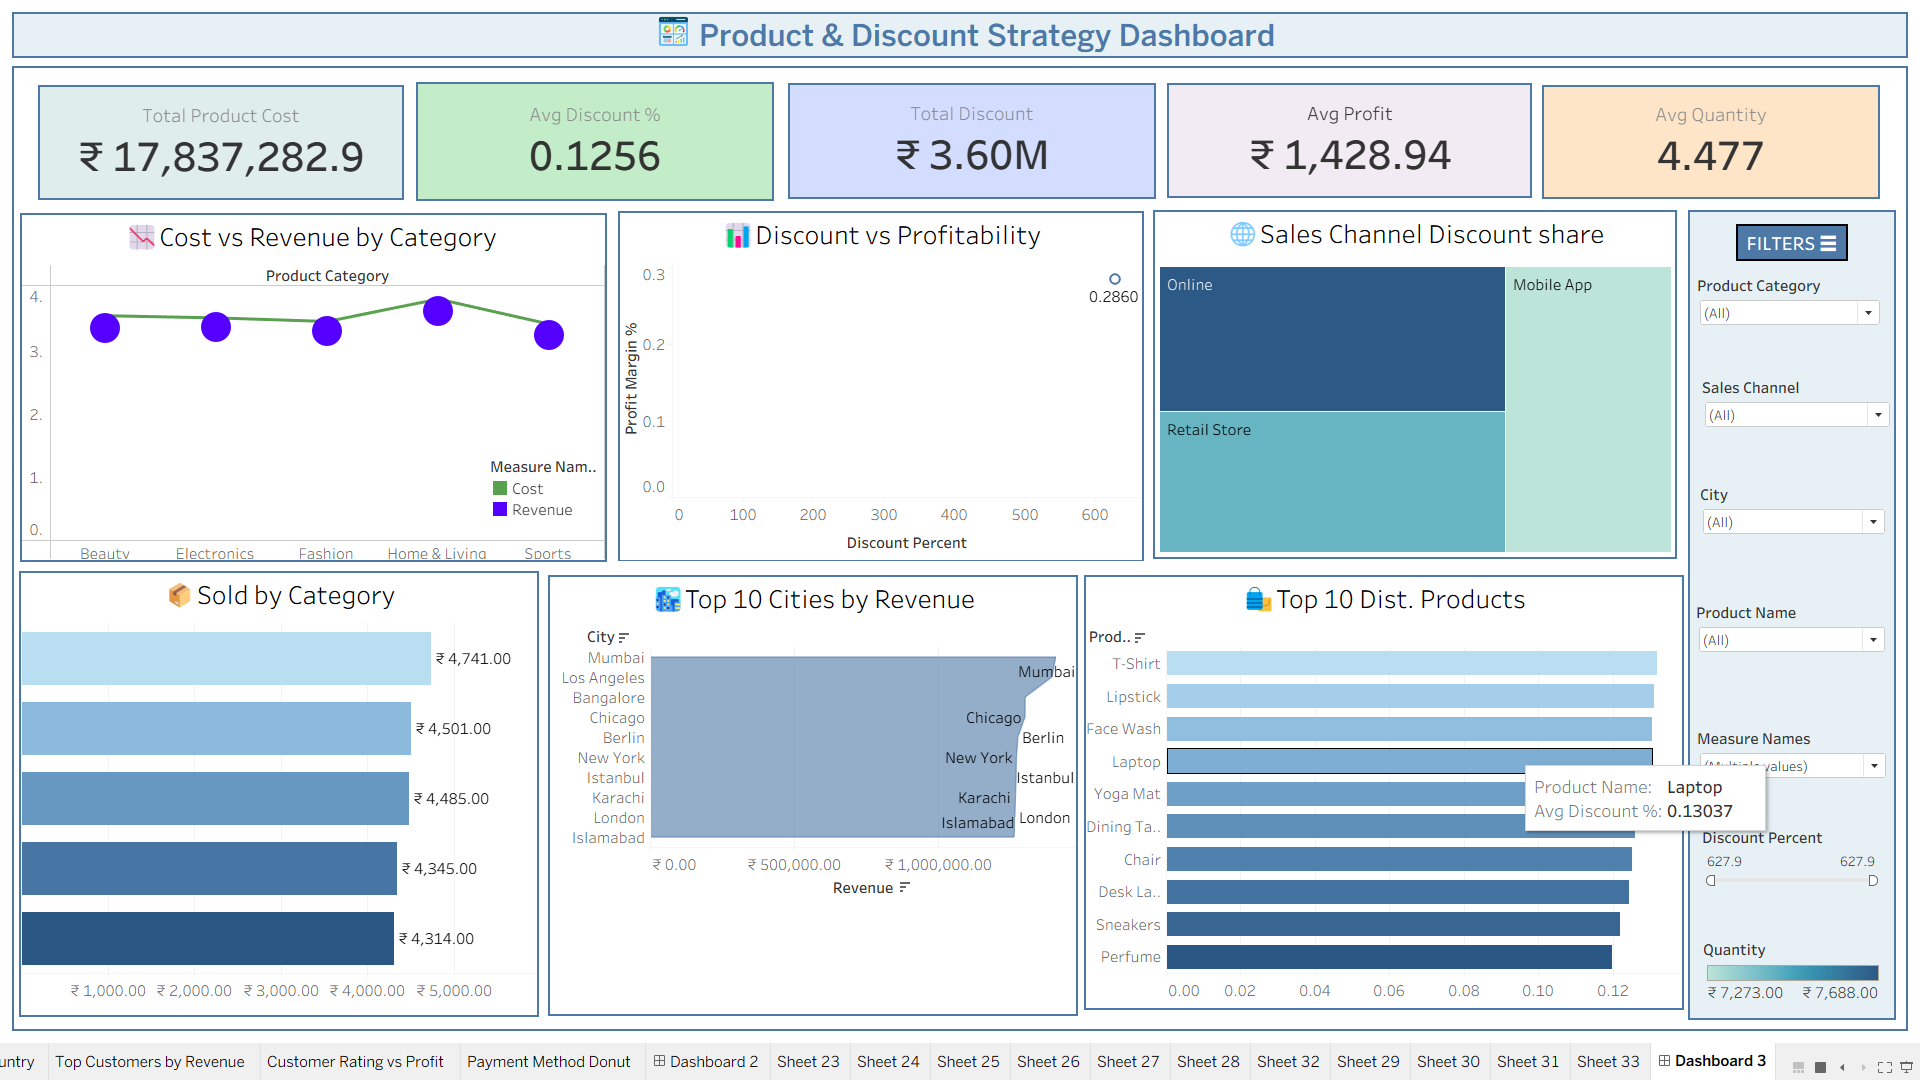

What the dashboard file says about the page in this screenshot:
{"tool":"tableau","page":{"name":"Dashboard 3","canvas":[1000,1000],"units":"permille","ordinal":2},"visuals":[{"type":"title","box":[4.8,9.4,990.3,63.5]},{"type":"image","param":"Image/dashboard.png","box":[325.9,21.2,15.7,29.4]},{"type":"blank","box":[4.8,72.9,990.3,917.8]},{"type":"worksheet","title":"Sheet 24","mark":"Automatic","box":[216.7,78.7,186.5,114]},{"type":"worksheet","title":"Sheet 23","mark":"Automatic","box":[410.4,79.9,191.9,111.6]},{"type":"worksheet","title":"Sheet 27","mark":"Automatic","box":[607.7,79.9,190.1,110.5]},{"type":"worksheet","title":"Sheet 25","mark":"Automatic","box":[19.9,81.1,190.7,110.5]},{"type":"worksheet","title":"Sheet 26","mark":"Automatic","box":[803.3,81.1,176.2,109.3]},{"type":"worksheet","title":"Sheet 32","mark":"Automatic","box":[600.5,200.9,273,334.9]},{"type":"worksheet","title":"Sheet 28","mark":"Automatic","rows":["Calculation_1093494615891980"],"cols":["Discount_Percent"],"box":[321.6,202.1,274.2,336.1]},{"type":"worksheet","title":"Sheet 30","mark":"Automatic","rows":["Cost","Revenue"],"cols":["Product_Category"],"box":[10.3,204.5,306,334.9]},{"type":"text","box":[903.9,215,58.6,35.2]},{"type":"filter","title":"Sheet 30","param":"[federated.0mwebx31yv44sr15h69f60pn67w9].[none:Product_Category:nk]","box":[884,263.2,96.7,85.8]},{"type":"filter","title":"Sheet 32","param":"[federated.0mwebx31yv44sr15h69f60pn67w9].[none:Sales_Channel:nk]","box":[886.4,361.9,99.6,79.9]},{"type":"legend","title":"Sheet 30","param":"[federated.0mwebx31yv44sr15h69f60pn67w9].[:Measure Names]","box":[255.4,437.1,57.4,69.3]},{"type":"filter","title":"Sheet 33","param":"[federated.0mwebx31yv44sr15h69f60pn67w9].[none:City:nk]","box":[885.2,464.2,97.8,99.9]},{"type":"worksheet","title":"Sheet 29","mark":"Bar","rows":["Product_Category"],"cols":["Quantity"],"box":[10,547.6,270.6,427.7]},{"type":"worksheet","title":"Sheet 33","mark":"Area","rows":["City"],"cols":["Revenue"],"box":[285.3,551.1,275.9,423]},{"type":"worksheet","title":"Sheet 31","mark":"Automatic","rows":["Product_Name"],"cols":["Calculation_1093494621630478"],"box":[564.7,551.1,312.2,417.2]},{"type":"filter","title":"Sheet 31","param":"[federated.0mwebx31yv44sr15h69f60pn67w9].[none:Product_Name:nk]","box":[883.4,577,100.2,111.6]},{"type":"filter","title":"Sheet 30","param":"[federated.0mwebx31yv44sr15h69f60pn67w9].[:Measure Names]","box":[884,698,100.2,90.5]},{"type":"filter","title":"Sheet 28","param":"[federated.0mwebx31yv44sr15h69f60pn67w9].[sum:Discount_Percent:qk]","box":[886.4,793.2,93.7,76.4]},{"type":"legend","title":"Sheet 32","param":"[federated.0mwebx31yv44sr15h69f60pn67w9].[sum:Quantity:qk]","box":[886.9,900.1,93.7,103.4]}]}

Visuals, with their boxes on the dashboard's canvas, which has no fixed pixel size, in thousandths of its width and height (x1, y1, x2, y2). These are canvas units, not pixel positions in the 1920x1080 screenshot, which may show the page scaled, cropped or inside an application window:
title: (left=5, top=9, right=995, bottom=73)
image: (left=326, top=21, right=342, bottom=51)
blank: (left=5, top=73, right=995, bottom=991)
"Sheet 24" worksheet: (left=217, top=79, right=403, bottom=193)
"Sheet 23" worksheet: (left=410, top=80, right=602, bottom=192)
"Sheet 27" worksheet: (left=608, top=80, right=798, bottom=190)
"Sheet 25" worksheet: (left=20, top=81, right=211, bottom=192)
"Sheet 26" worksheet: (left=803, top=81, right=980, bottom=190)
"Sheet 32" worksheet: (left=600, top=201, right=874, bottom=536)
"Sheet 28" worksheet: (left=322, top=202, right=596, bottom=538)
"Sheet 30" worksheet: (left=10, top=204, right=316, bottom=539)
text: (left=904, top=215, right=962, bottom=250)
"Sheet 30" filter: (left=884, top=263, right=981, bottom=349)
"Sheet 32" filter: (left=886, top=362, right=986, bottom=442)
"Sheet 30" legend: (left=255, top=437, right=313, bottom=506)
"Sheet 33" filter: (left=885, top=464, right=983, bottom=564)
"Sheet 29" worksheet (Bar marks): (left=10, top=548, right=281, bottom=975)
"Sheet 33" worksheet (Area marks): (left=285, top=551, right=561, bottom=974)
"Sheet 31" worksheet: (left=565, top=551, right=877, bottom=968)
"Sheet 31" filter: (left=883, top=577, right=984, bottom=689)
"Sheet 30" filter: (left=884, top=698, right=984, bottom=788)
"Sheet 28" filter: (left=886, top=793, right=980, bottom=870)
"Sheet 32" legend: (left=887, top=900, right=981, bottom=1004)
